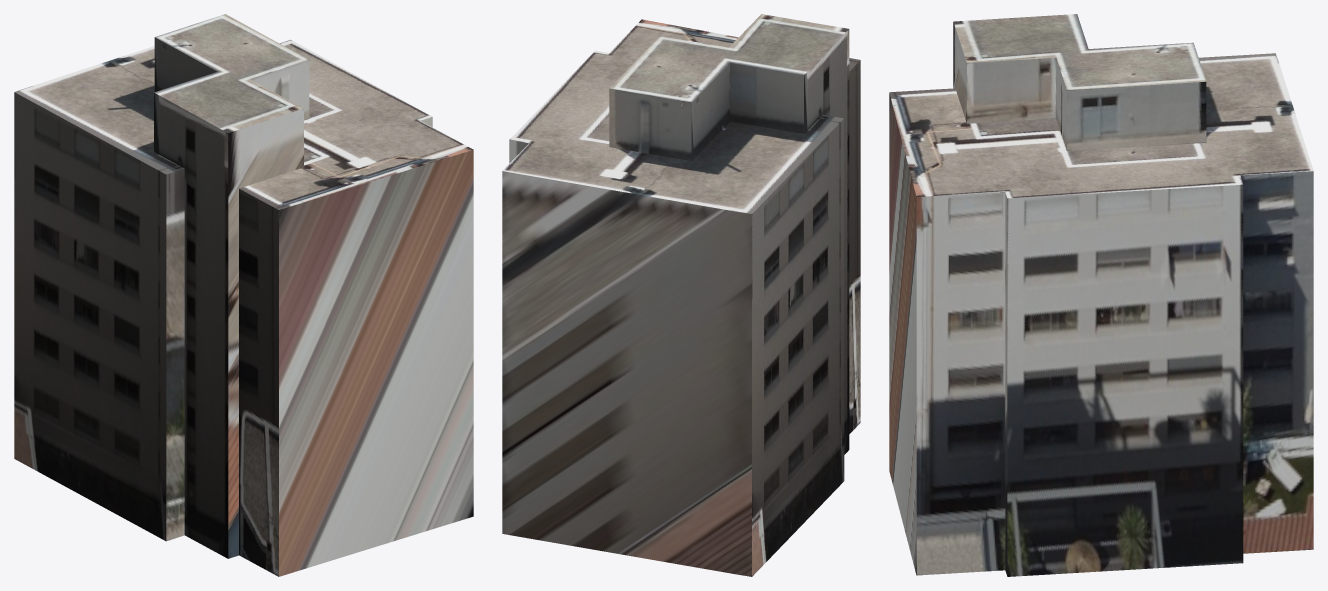
3 views of the same model, side by side, from view 1: azimuth 30°, elevation 25°; view 2: azimuth 150°, elevation 25°; view 3: azimuth 270°, elevation 25° (orthographic). The views are drawn at different scales.
Parts seen in each view (by area): view 1: Z_UP; view 2: Z_UP; view 3: Z_UP.
Part boxes in pixels (<box>): Z_UP: <box>14,14,473,576</box>; Z_UP: <box>502,14,860,576</box>; Z_UP: <box>889,14,1313,576</box>.
Bounding box in the file's own units: 16.06 × 22.67 × 19.84.
2 materials, 1 textured.
